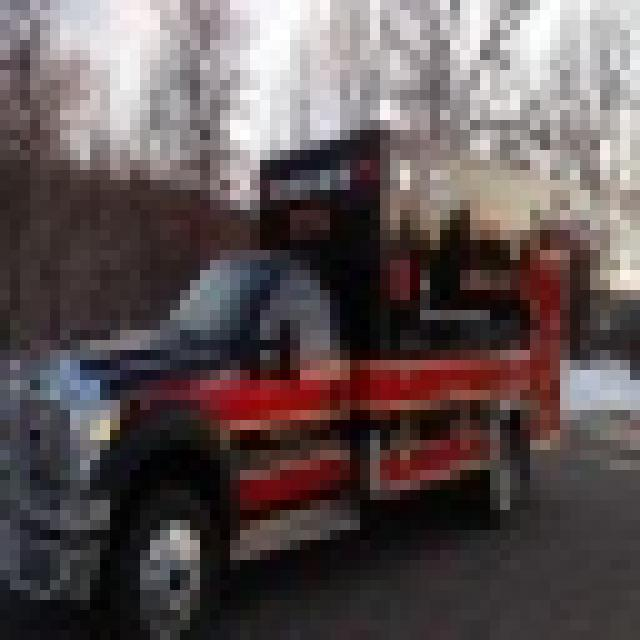Ambulance: (0, 120, 590, 630)
